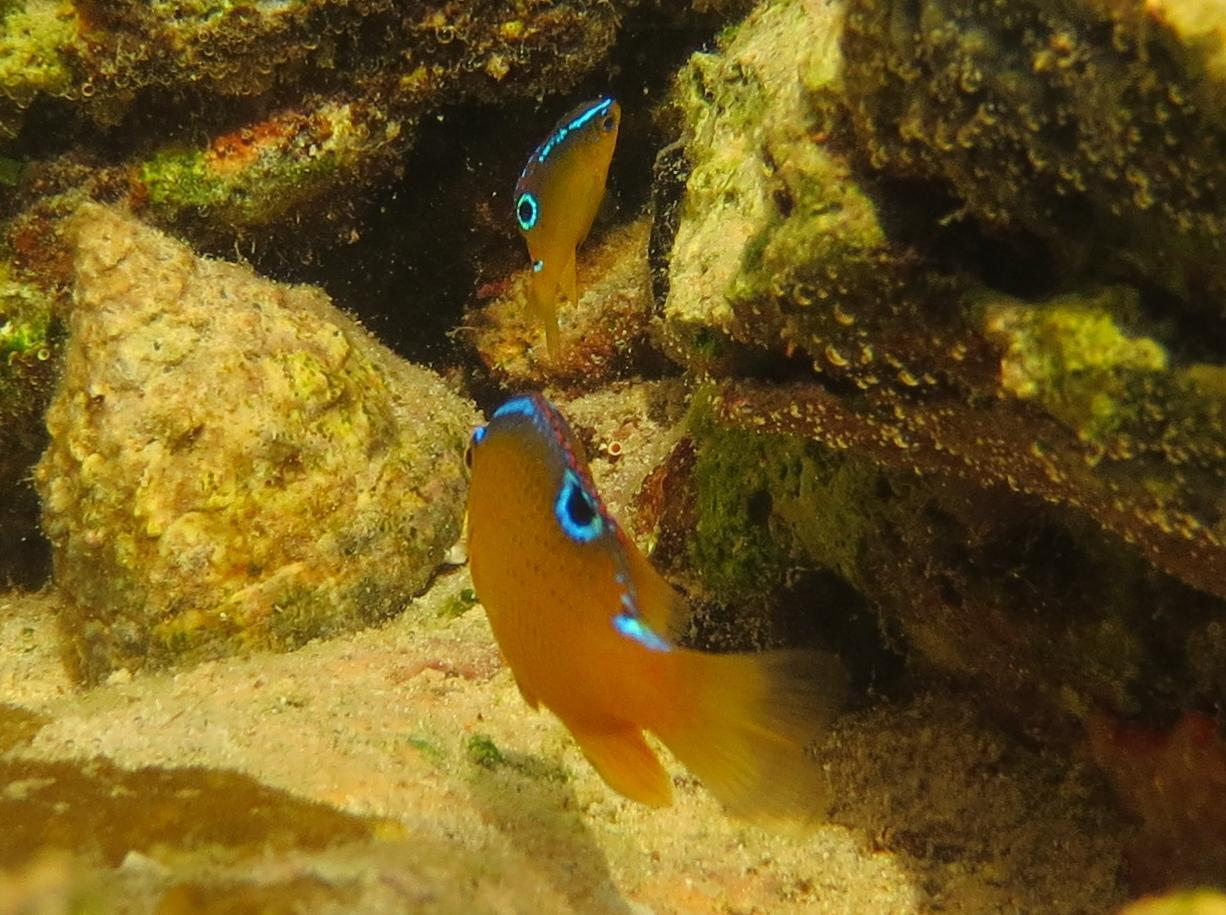Fish: (453, 386, 862, 871), (492, 80, 634, 342)
